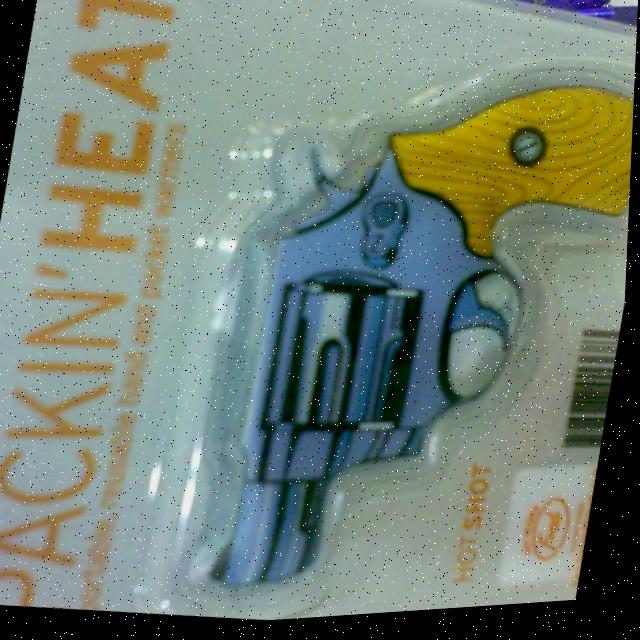pistol: (212, 53, 637, 628)
